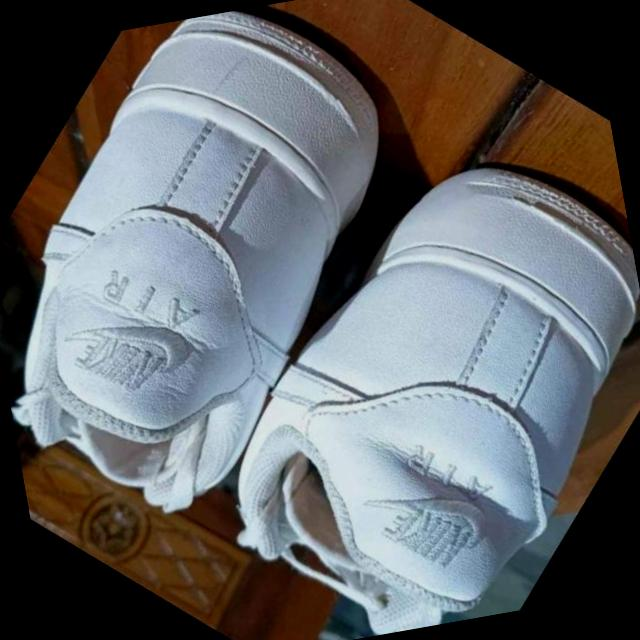nike_fake_airforce: (0, 0, 511, 567), (124, 85, 640, 640)
